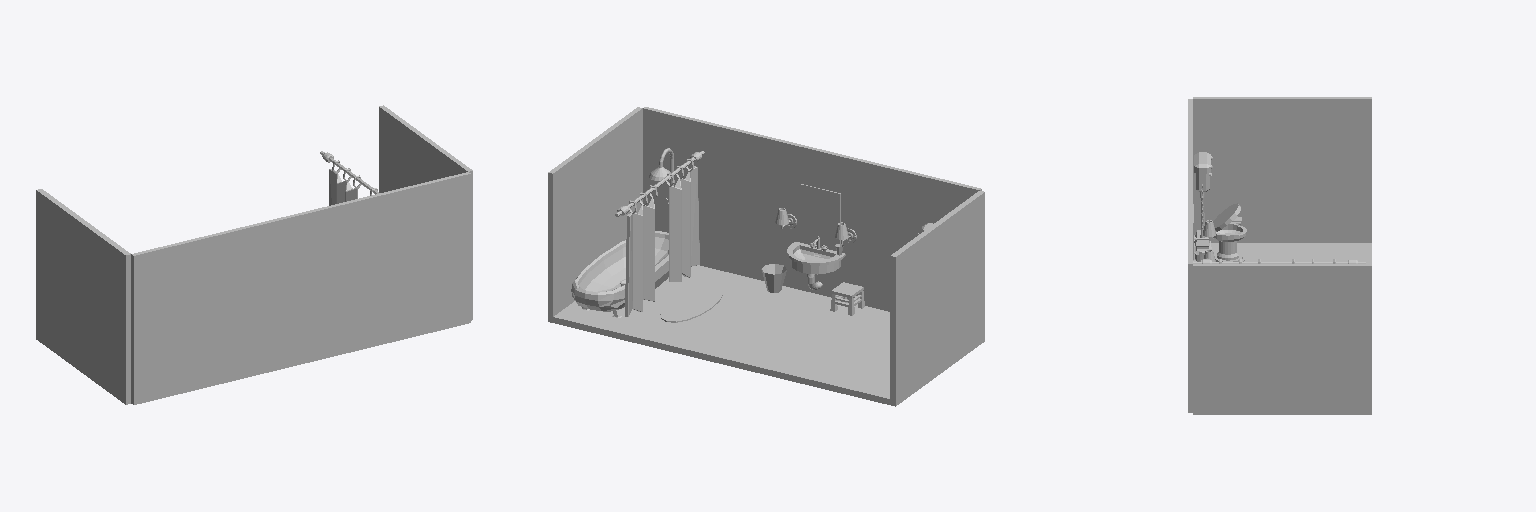
File: bano.obj
The picture shows the model from 3 angles: view 1: azimuth 30°, elevation 25°; view 2: azimuth 150°, elevation 25°; view 3: azimuth 270°, elevation 25°; orthographic projection.
Parts seen in each view (by area): view 1: Paredes Bano, Bano Cortinas; view 2: Paredes Bano, Bano Cortinas, Bano Banera, Bano Espejo, Bano Alfombra, Bano Pica, Bano Tamburete, Bano Basura; view 3: Paredes Bano, Bano Bloque_Retrete, Bano Vater Retrete.
Boxes of the visible parts, x1,y1,x2,y2 form: Paredes Bano: [36, 105, 472, 404]; Bano Cortinas: [320, 151, 379, 205]; Paredes Bano: [548, 107, 984, 406]; Bano Cortinas: [615, 151, 704, 316]; Bano Banera: [571, 231, 668, 318]; Bano Espejo: [800, 184, 840, 243]; Bano Alfombra: [660, 284, 722, 322]; Bano Pica: [787, 242, 845, 274]; Bano Tamburete: [830, 282, 864, 315]; Bano Basura: [761, 264, 786, 292]; Paredes Bano: [1188, 97, 1371, 414]; Bano Bloque_Retrete: [1194, 152, 1212, 259]; Bano Vater Retrete: [1212, 223, 1246, 261].
Size of the model in its own units: 67.76 by 27.86 by 31.04.